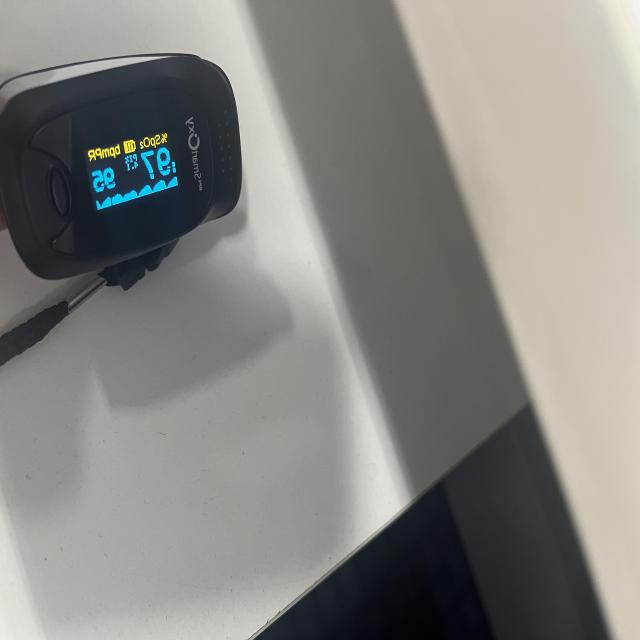spo2: (0, 53, 244, 282)
